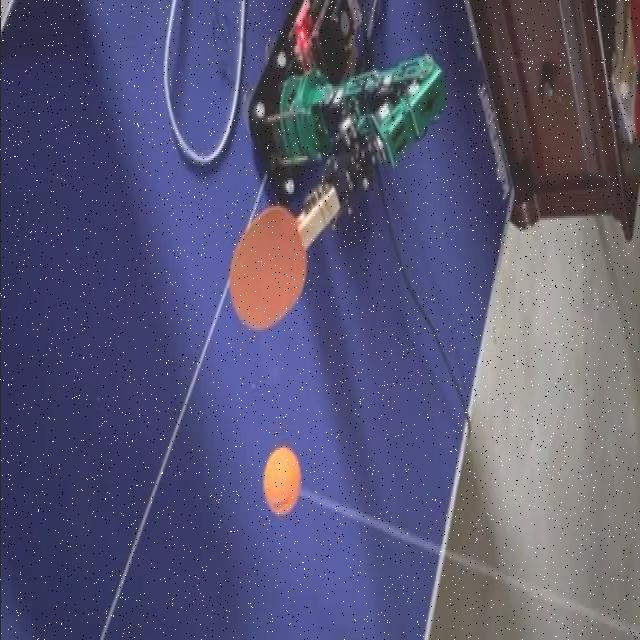ping-pong-ball: (262, 448, 304, 524)
